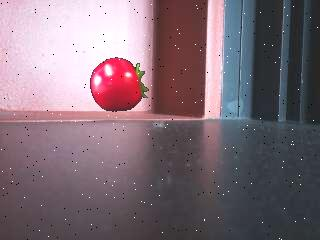Tomato: (88, 55, 152, 115)
